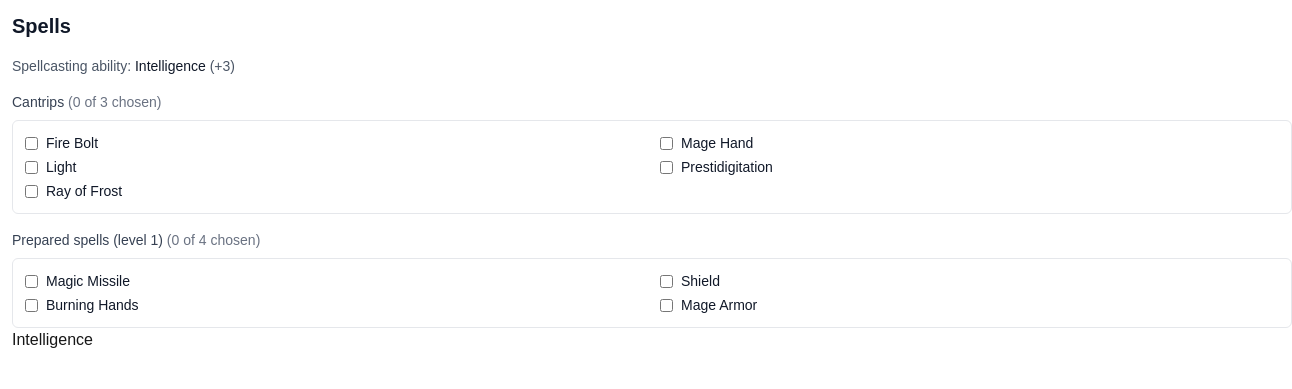
SpellsStep — spell selection › writes structured SpellEntry rows with prepared flag + catalog metadata
The width and height of the screenshot is (1292, 389).
Step 1. Click the checkbox labelled "Fire Bolt" → (32, 143), box left=25, top=136, right=38, bottom=150
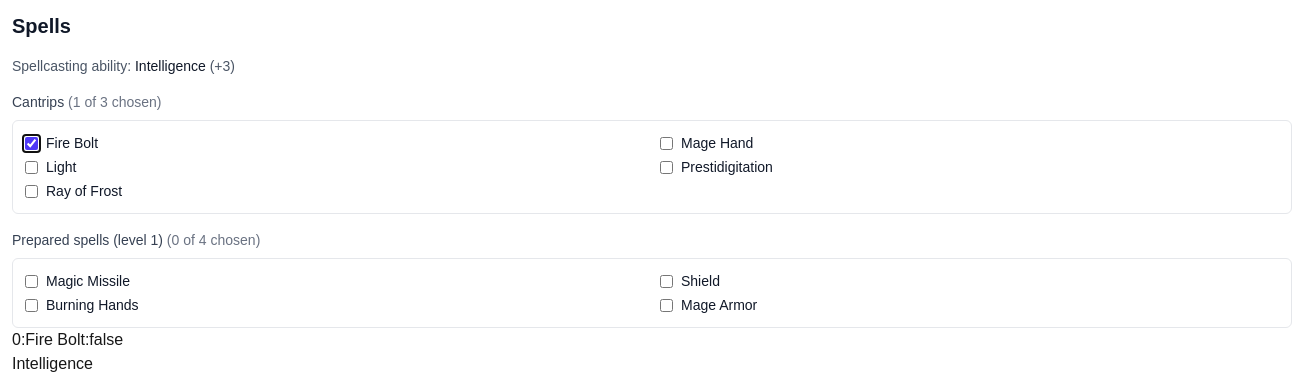
Step 2. Click the checkbox labelled "Magic Missile" → (32, 281), box left=25, top=274, right=38, bottom=288
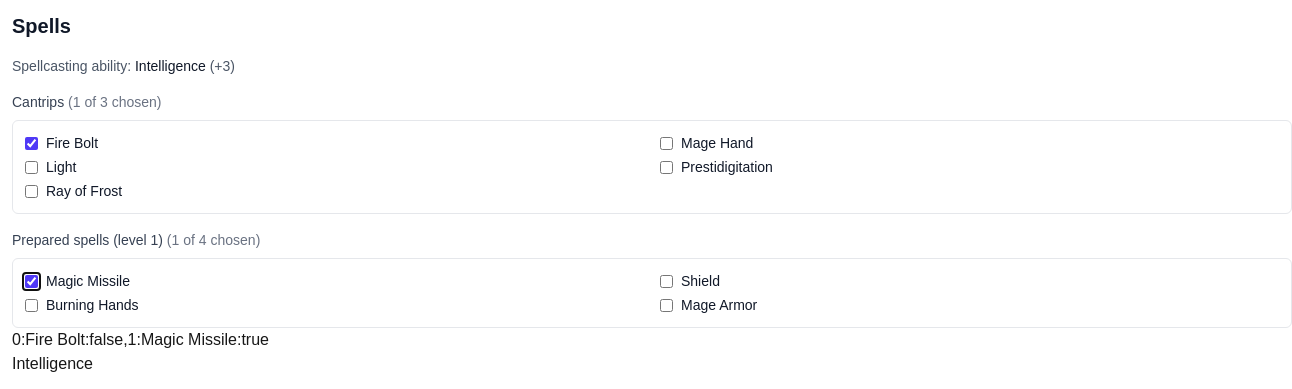
Result: the text with test id "draft-spells" reads "0:Fire Bolt:false,1:Magic Missile:true" at left=12, top=331, right=269, bottom=348
